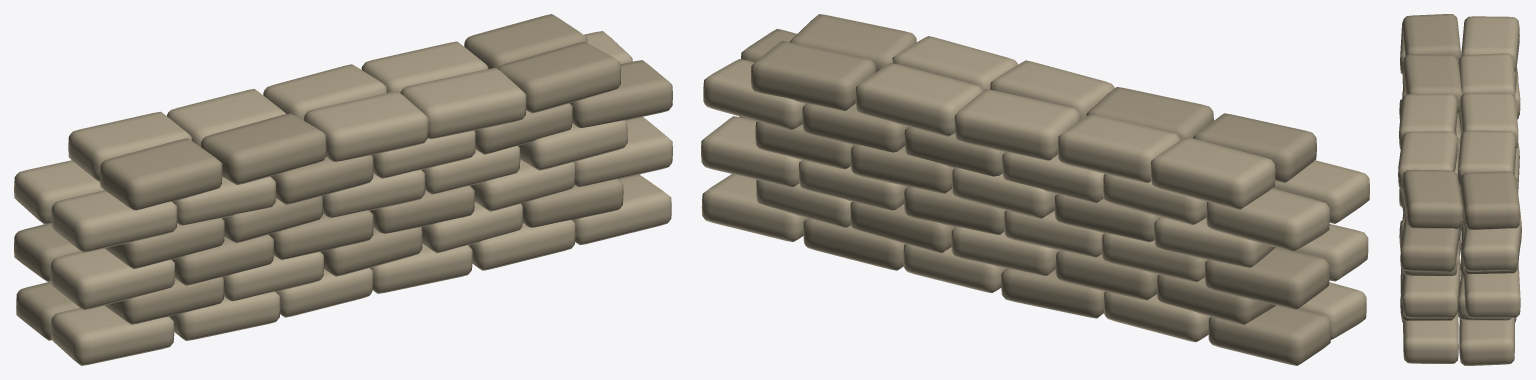
File: sandbag_wall.glb
3 renders of one model, left to right at view 1: azimuth 30°, elevation 25°; view 2: azimuth 150°, elevation 25°; view 3: azimuth 270°, elevation 25°, orthographic. The views are drawn at different scales.
Parts seen in each view (by area): view 1: Sandbags; view 2: Sandbags; view 3: Sandbags.
Boxes of the visible parts, left/top/right/bottom form: Sandbags: left=14, top=14, right=672, bottom=365; Sandbags: left=701, top=14, right=1369, bottom=365; Sandbags: left=1398, top=14, right=1521, bottom=365.
Size of the model in its own units: 3.01 by 0.8489 by 0.6706.
